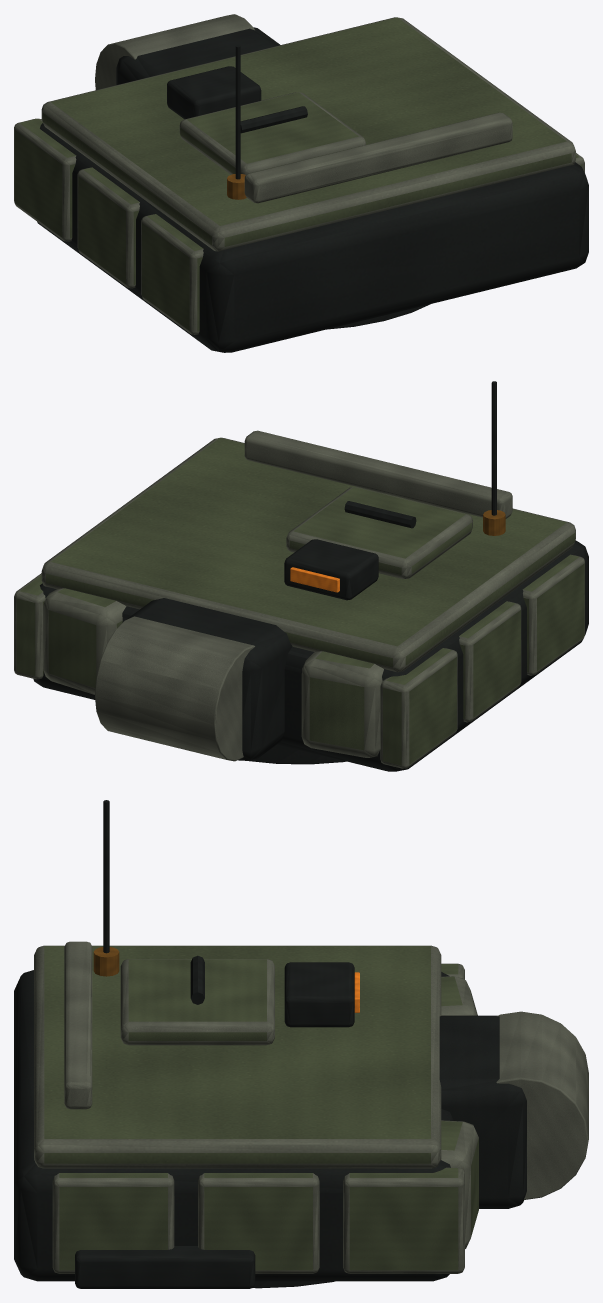
The model's file is bulwark-turret.fbx.
3 views of the same model, one above another, from view 1: azimuth 30°, elevation 25°; view 2: azimuth 150°, elevation 25°; view 3: azimuth 270°, elevation 25° (orthographic). The views are drawn at different scales.
Parts seen in each view (by area): view 1: bulwark-turret_Armor, bulwark-turret_Steel, bulwark-turret_Edge; view 2: bulwark-turret_Armor, bulwark-turret_Edge, bulwark-turret_Steel, bulwark-turret_Optic, bulwark-turret_Brass; view 3: bulwark-turret_Armor, bulwark-turret_Steel, bulwark-turret_Edge, bulwark-turret_Brass.
Boxes of the visible parts, x1,y1,x2,y2 form: bulwark-turret_Armor: (14,17,584,334); bulwark-turret_Steel: (37,27,588,352); bulwark-turret_Edge: (95,14,512,203); bulwark-turret_Armor: (14,437,584,768); bulwark-turret_Edge: (95,430,512,761); bulwark-turret_Steel: (33,381,588,771); bulwark-turret_Optic: (290,567,339,592); bulwark-turret_Brass: (483,510,505,535); bulwark-turret_Armor: (34,945,478,1273); bulwark-turret_Steel: (14,800,526,1288); bulwark-turret_Edge: (64,941,588,1199); bulwark-turret_Brass: (93,947,119,976).
Size of the model in its own units: 230 by 158 by 246.
5 materials, 5 textured.
